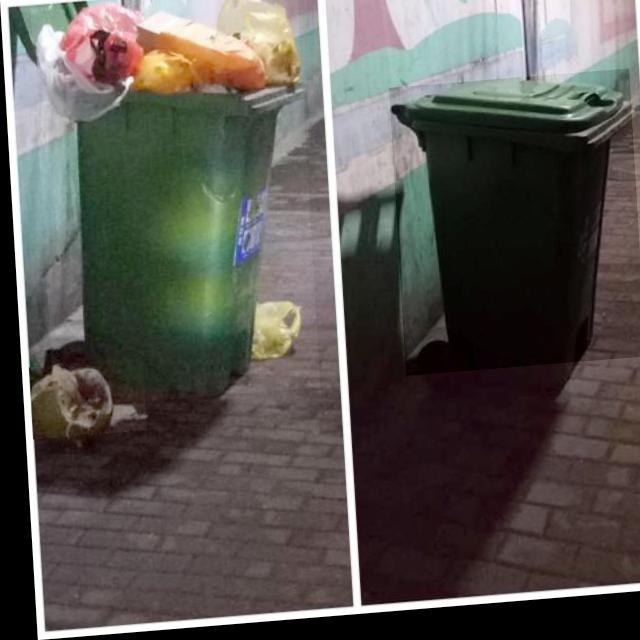garbage: (25, 360, 142, 440), (244, 303, 297, 364)
garbage_bin: (387, 79, 640, 383)
overflow: (31, 0, 315, 409)
